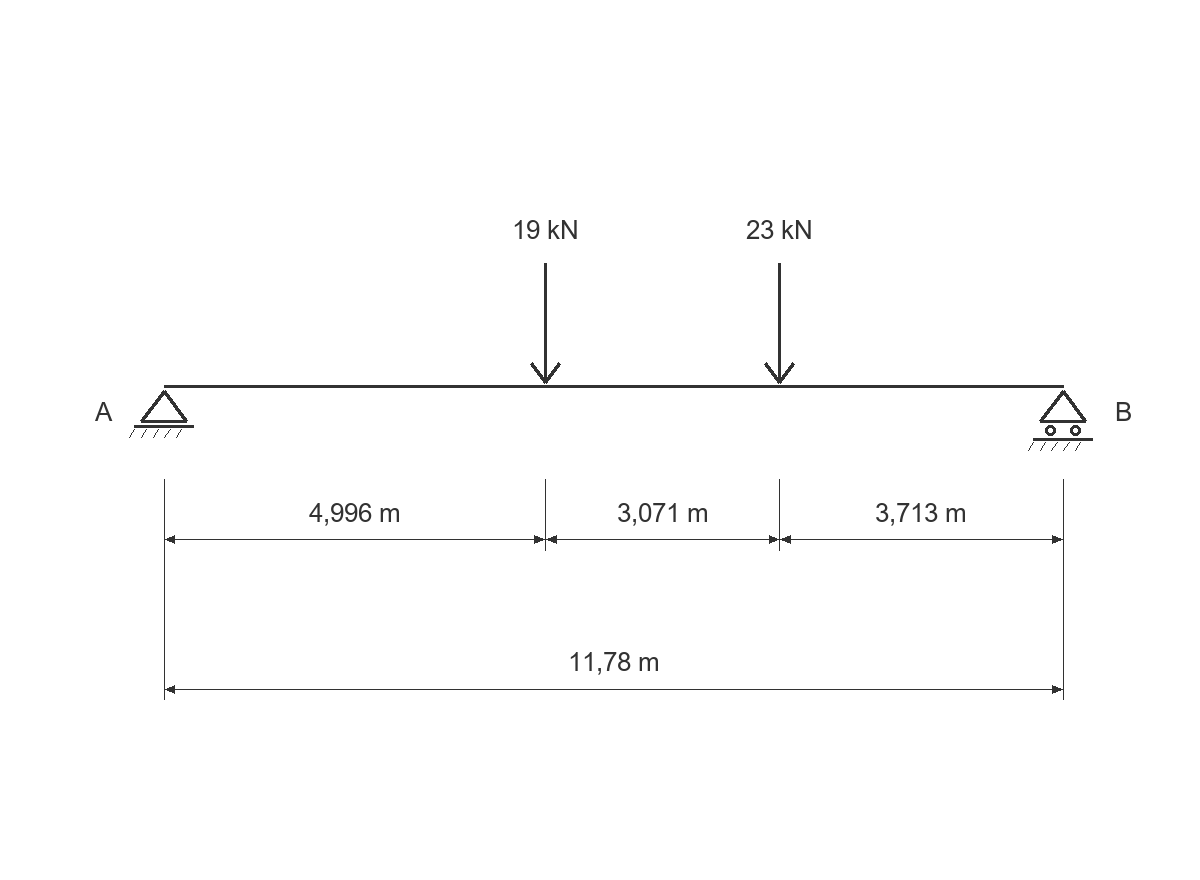pin_support: (129, 390, 194, 438)
point_load: (530, 263, 561, 384), (764, 263, 795, 384)
roller_support: (1028, 390, 1093, 451)
